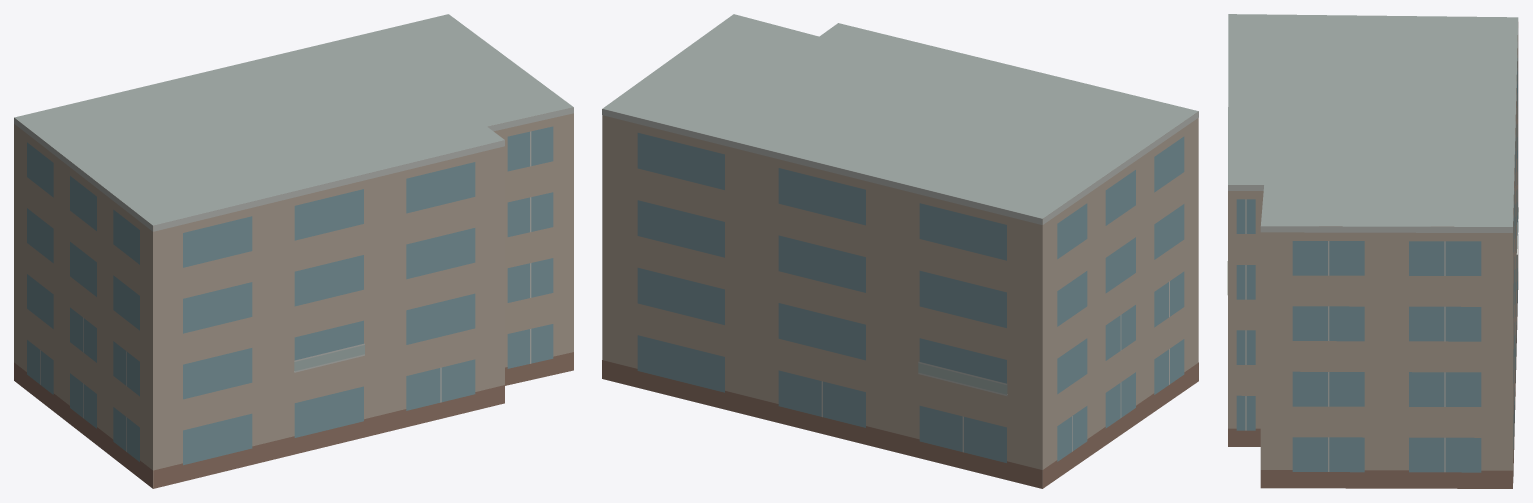
The model's file is survey-upis-32583349.glb.
3 views of the same model, side by side, from view 1: azimuth 30°, elevation 25°; view 2: azimuth 150°, elevation 25°; view 3: azimuth 270°, elevation 25° (orthographic). The views are drawn at different scales.
Parts seen in each view (by area): view 1: survey-upis-32583349.tmp; view 2: survey-upis-32583349.tmp; view 3: survey-upis-32583349.tmp.
Part boxes in pixels (box(x1,y1,x2,y2)): survey-upis-32583349.tmp: box(14, 14, 573, 488); survey-upis-32583349.tmp: box(602, 14, 1198, 488); survey-upis-32583349.tmp: box(1227, 14, 1518, 488).
Bounding box in the file's own units: 18.14 × 10.4 × 10.51.
